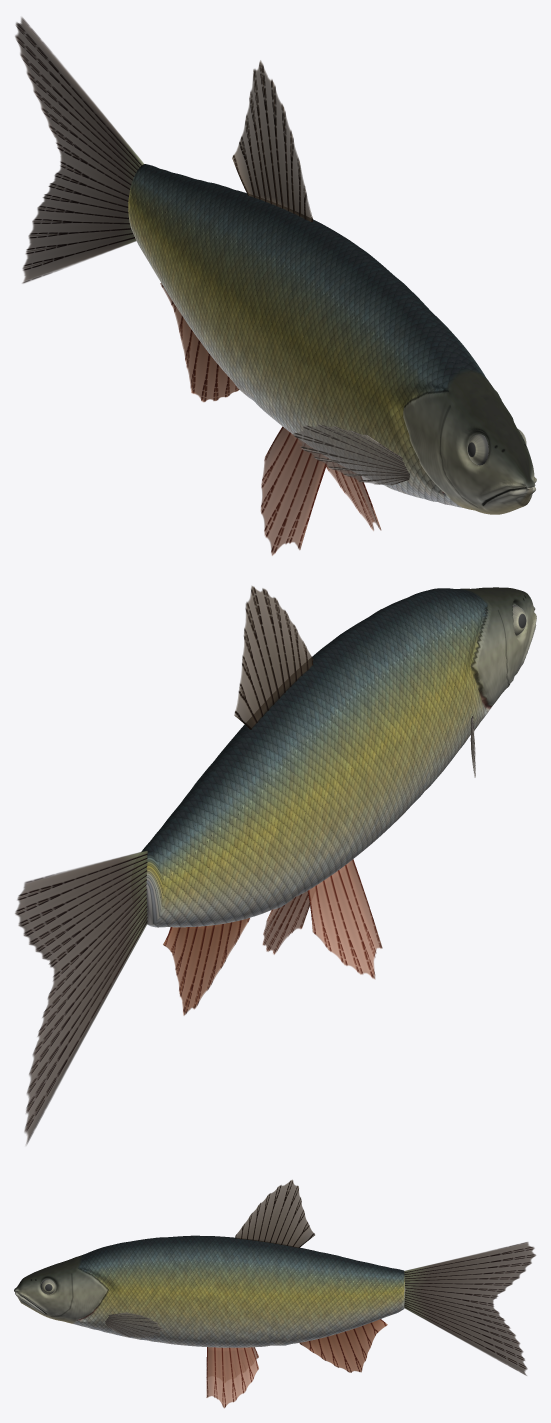
Rendered from bolen.glb.
The picture shows the model from 3 angles, top to bottom: view 1: azimuth 30°, elevation 25°; view 2: azimuth 150°, elevation 25°; view 3: azimuth 270°, elevation 25°; orthographic projection. The views are drawn at different scales.
Visible parts, largest first — view 1: Body, FinCaudal, FinPelvic, FinDorsal1, FinPectoral, FinAnal; view 2: Body, FinCaudal, FinPelvic, FinDorsal1, FinAnal; view 3: Body, FinCaudal, FinDorsal1, FinPelvic, FinAnal, FinPectoral.
Part boxes in pixels (x1,y1,x2,y2): Body: (128, 164, 536, 514); FinCaudal: (15, 17, 143, 283); FinPelvic: (260, 426, 381, 555); FinDorsal1: (232, 60, 312, 222); FinPectoral: (292, 424, 409, 485); FinAnal: (160, 283, 239, 401); Body: (141, 587, 536, 927); FinCaudal: (15, 850, 147, 1145); FinPelvic: (262, 859, 382, 979); FinDorsal1: (234, 586, 313, 729); FinAnal: (163, 918, 249, 1015); Body: (14, 1235, 405, 1347); FinCaudal: (404, 1242, 535, 1375); FinDorsal1: (235, 1179, 314, 1247); FinPelvic: (206, 1347, 258, 1408); FinAnal: (299, 1319, 387, 1372); FinPectoral: (105, 1312, 162, 1337).
Size of the model in its own units: 0.2037 by 0.4591 by 0.9952.
Materials: 8 (7 with a texture image).
